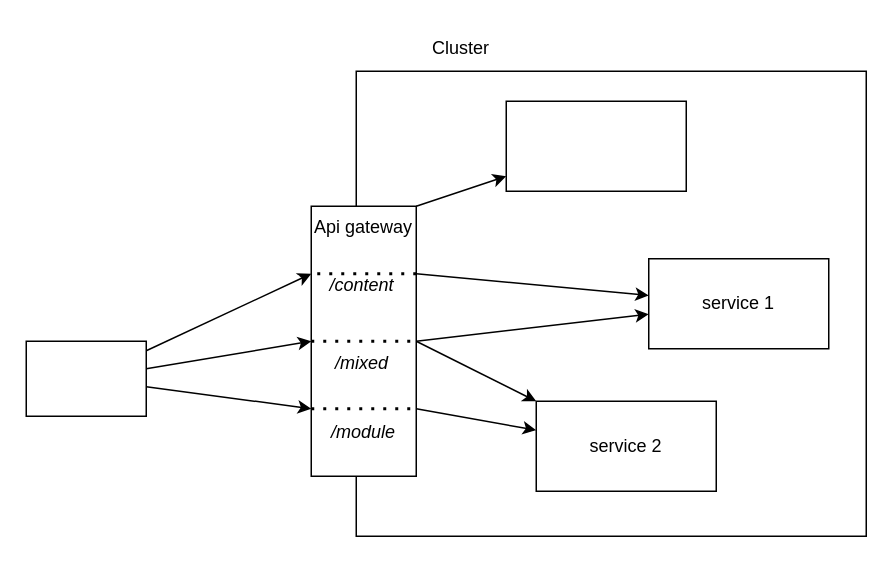
The diagram is 893 pixels wide and 563 high, and some of its shapes have lost their labels. Each missing label, with the box of its shape:
Authorisation server: (505, 100, 686, 191)
client: (25, 340, 146, 416)
